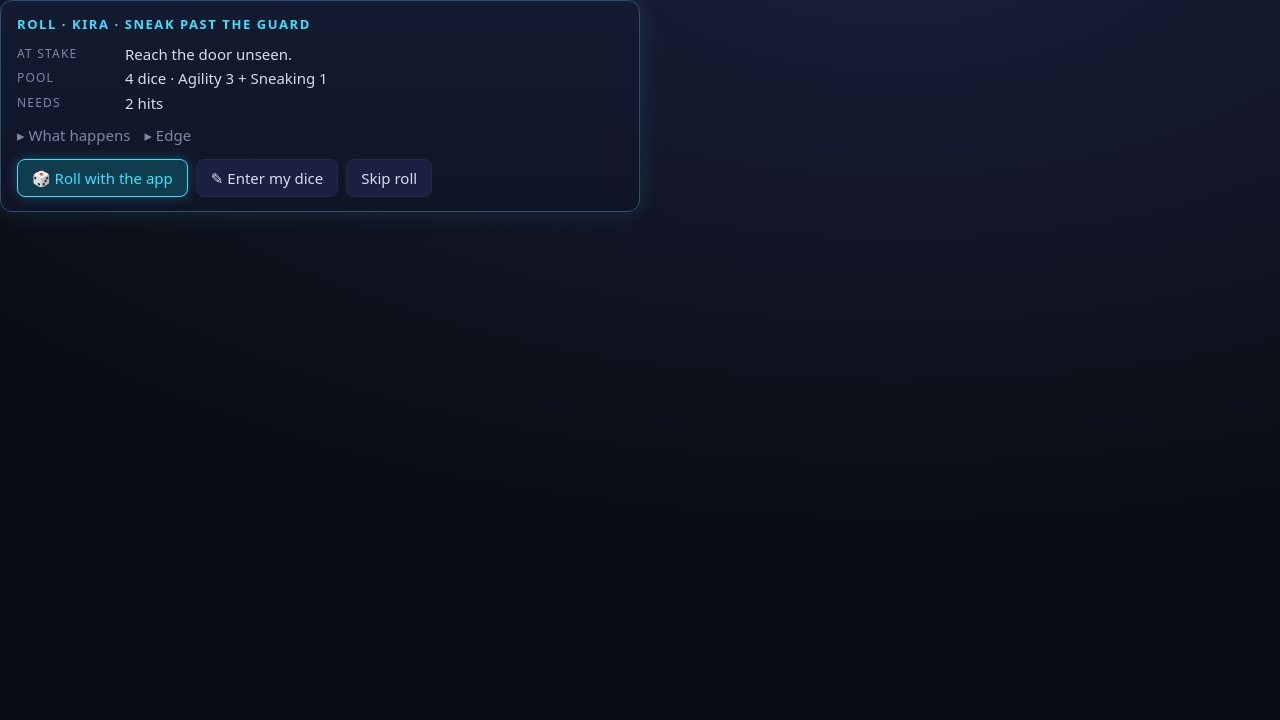
Test: the roll card › opens What happens and Edge on click
Click the button "▸ What happens". click: (74, 135)
box: 17,124 -> 130,146
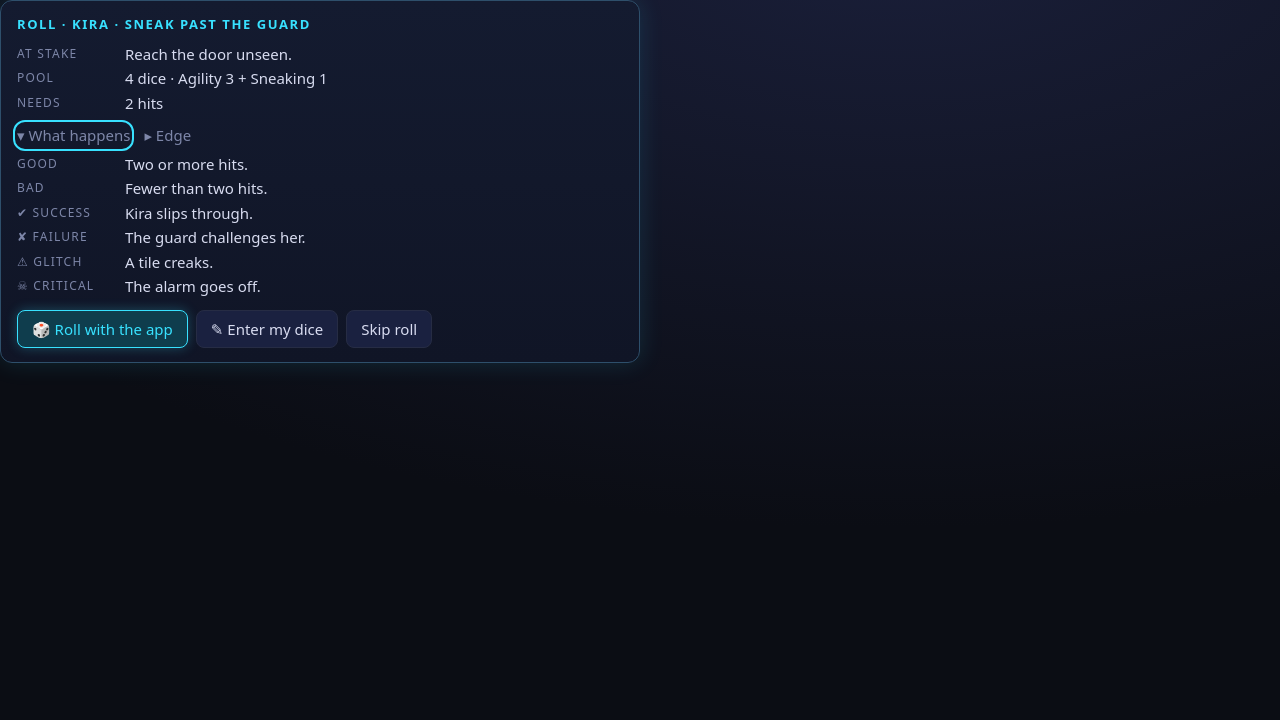
Click the button "▸ Edge". click: (168, 135)
box: 144,124 -> 191,146
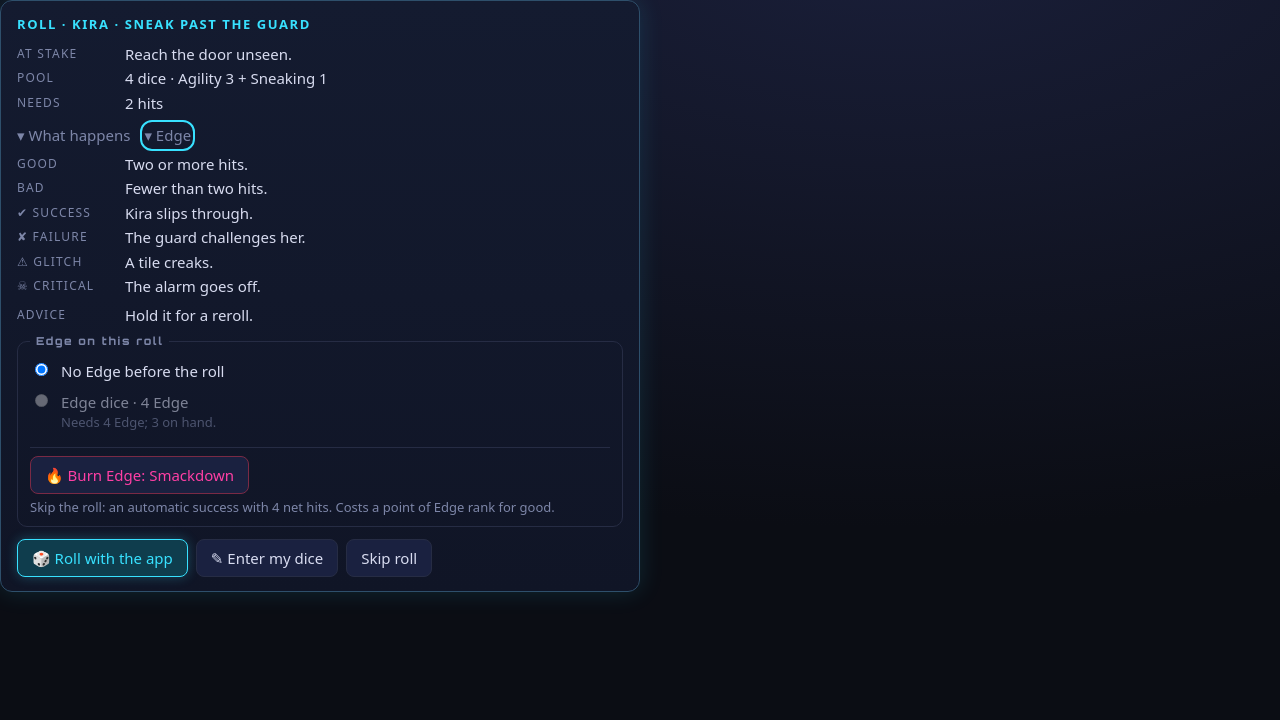
Now the text "The alarm goes off." is shown, box 125,276 -> 261,296
Now the text "The guard challenges her." is shown, box 125,227 -> 306,247
Now the text "Hold it for a reroll." is shown, box 125,304 -> 253,324
